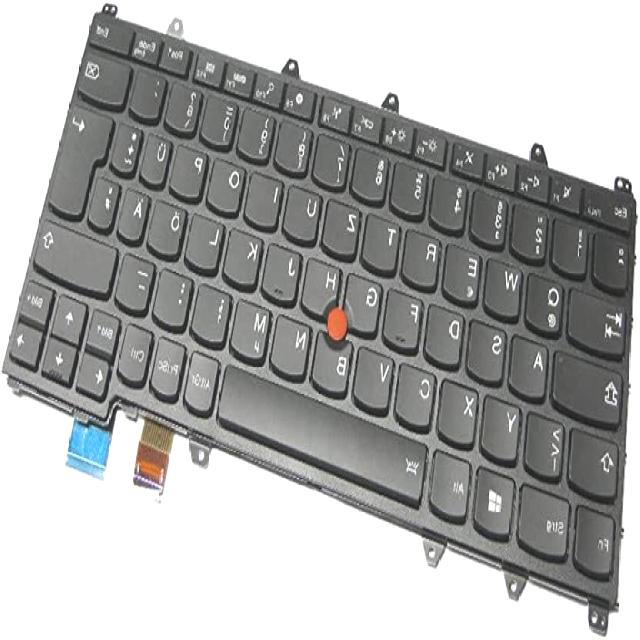0: (204, 90, 242, 144)
1: (554, 215, 591, 273)
2: (513, 201, 551, 259)
3: (473, 185, 511, 245)
4: (432, 170, 470, 228)
5: (393, 157, 431, 214)
6: (354, 144, 392, 200)
7: (315, 129, 353, 185)
8: (277, 117, 315, 171)
9: (240, 101, 278, 158)
a: (512, 331, 550, 397)
accent: (132, 63, 170, 119)
ae: (119, 184, 153, 238)
alt-left: (432, 445, 474, 516)
altgr-right: (186, 348, 222, 410)
b: (313, 324, 356, 391)
c: (397, 359, 439, 426)
caret: (596, 226, 632, 287)
comma: (194, 279, 234, 341)
d: (427, 300, 467, 364)
del: (78, 52, 134, 104)
e: (446, 239, 484, 301)
enter: (49, 100, 116, 214)
f: (386, 283, 425, 350)
g: (348, 269, 385, 331)
h: (303, 253, 343, 313)
hash: (90, 168, 123, 226)
i: (247, 167, 285, 225)
j: (265, 238, 304, 300)
k: (226, 224, 265, 285)
keyboard: (3, 18, 637, 632)
l: (187, 208, 225, 268)
less: (526, 407, 567, 477)
m: (233, 295, 274, 357)
minus: (117, 248, 159, 309)
n: (273, 310, 314, 374)
o: (210, 154, 249, 211)
oe: (149, 195, 190, 255)
p: (172, 140, 210, 197)
plus: (113, 117, 145, 171)
point: (155, 263, 196, 324)
q: (527, 269, 566, 333)
r: (404, 225, 442, 286)
s: (470, 316, 509, 382)
shift-left: (570, 426, 622, 497)
shift-lock: (554, 346, 626, 424)
shift-right: (35, 218, 121, 292)
space: (218, 355, 432, 505)
ss: (167, 77, 205, 131)
strg-left: (518, 481, 574, 558)
strg-right: (120, 319, 156, 383)
t: (364, 209, 402, 270)
tab: (571, 284, 629, 356)
u: (286, 181, 324, 241)
ue: (142, 128, 174, 182)
v: (356, 342, 397, 409)
w: (487, 253, 525, 314)
x: (441, 374, 481, 444)
y: (483, 391, 522, 459)
z: (325, 195, 363, 255)
